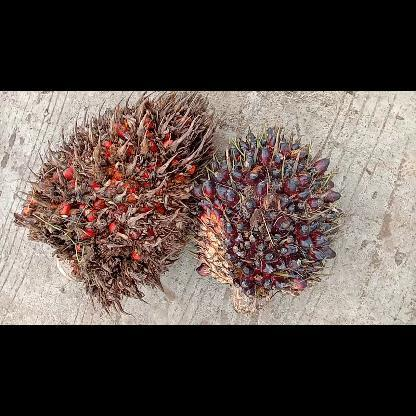TBS mentah: (192, 124, 340, 314)
Terlalu masak: (14, 90, 218, 315)
